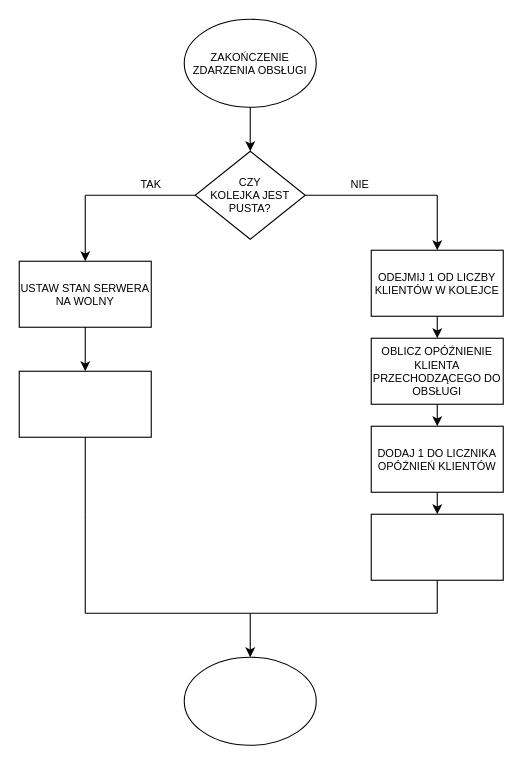
This 523x765 diagram has some shape labels left out. The shapes that lost their labels are listed below. From the top down, each one's centre as x and y in pixels, then its label:
point 84,403: USUŃ ZDARZENIE ZAKOŃCZENIA OBSŁUGI Z LISTY ZDARZEŃ
point 436,546: ZAPLANUJ ZDARZENIE ZAKOŃCZENIA OBSŁUGI KLIENTA
point 249,700: POWRÓT
